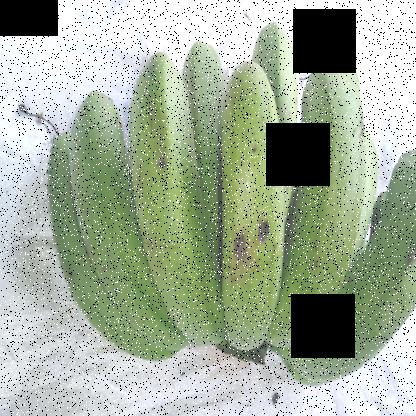unripe: (72, 75, 182, 349), (293, 137, 415, 383), (129, 48, 216, 364), (273, 63, 364, 360), (214, 53, 294, 366)
